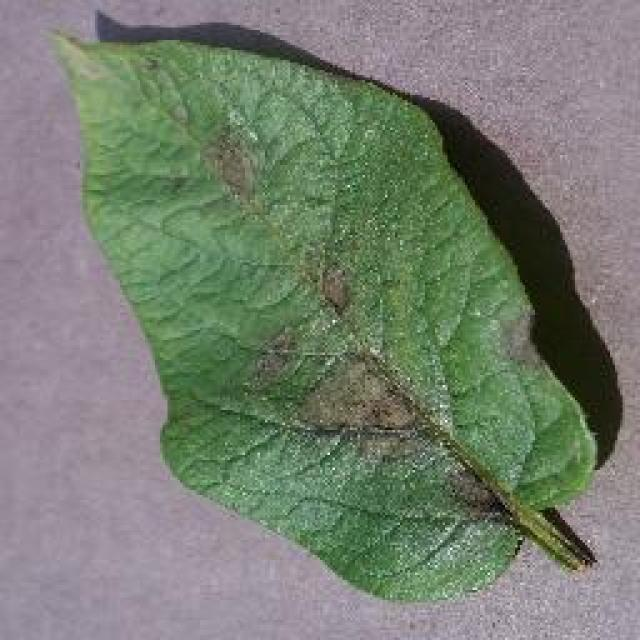Potato: (45, 10, 603, 602)
